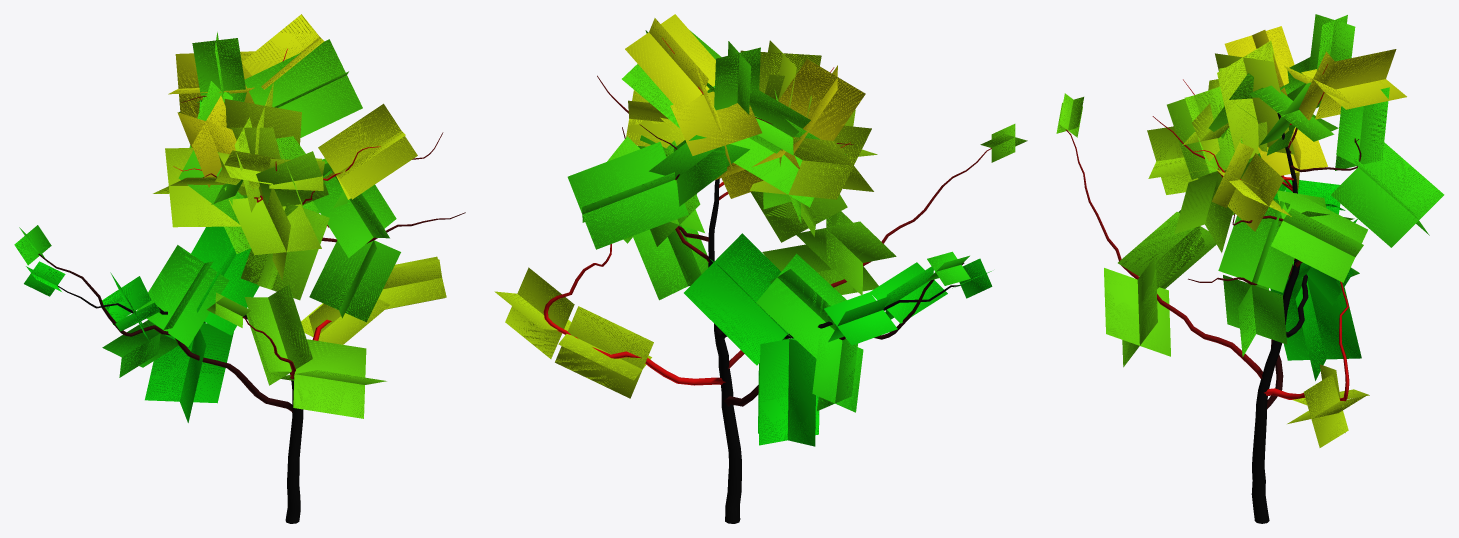
File: Type_1_Tree_6.fbx
3 renders of one model, left to right at view 1: azimuth 30°, elevation 25°; view 2: azimuth 150°, elevation 25°; view 3: azimuth 270°, elevation 25°, orthographic. The views are drawn at different scales.
Parts seen in each view (by area): view 1: Leaf, Trunk; view 2: Leaf, Trunk; view 3: Leaf, Trunk.
Boxes of the visible parts, bbox=[...] form: Leaf: bbox=[14, 14, 446, 422]; Trunk: bbox=[38, 49, 465, 523]; Leaf: bbox=[494, 14, 1027, 446]; Trunk: bbox=[543, 38, 991, 523]; Leaf: bbox=[1056, 14, 1444, 447]; Trunk: bbox=[1066, 64, 1361, 523].
Size of the model in its own units: 3518 by 3663 by 2630.
